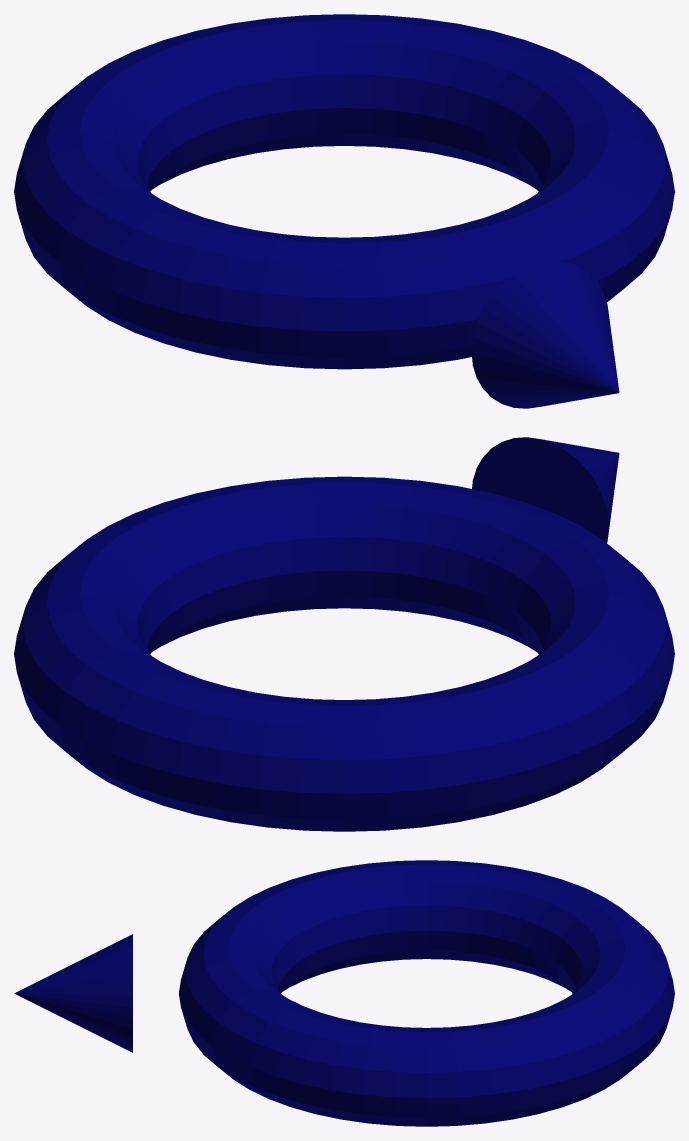
File: Aim.fbx
The picture shows the model from 3 angles, top to bottom: view 1: azimuth 30°, elevation 25°; view 2: azimuth 150°, elevation 25°; view 3: azimuth 270°, elevation 25°; orthographic projection. The views are drawn at different scales.
Visible parts, largest first — view 1: Cone; view 2: Cone; view 3: Cone.
Boxes of the visible parts, x1,y1,x2,y2 form: Cone: (14, 14, 674, 408); Cone: (14, 437, 674, 831); Cone: (14, 860, 674, 1126).
Bounding box in the file's own units: 250 × 60 × 333.
